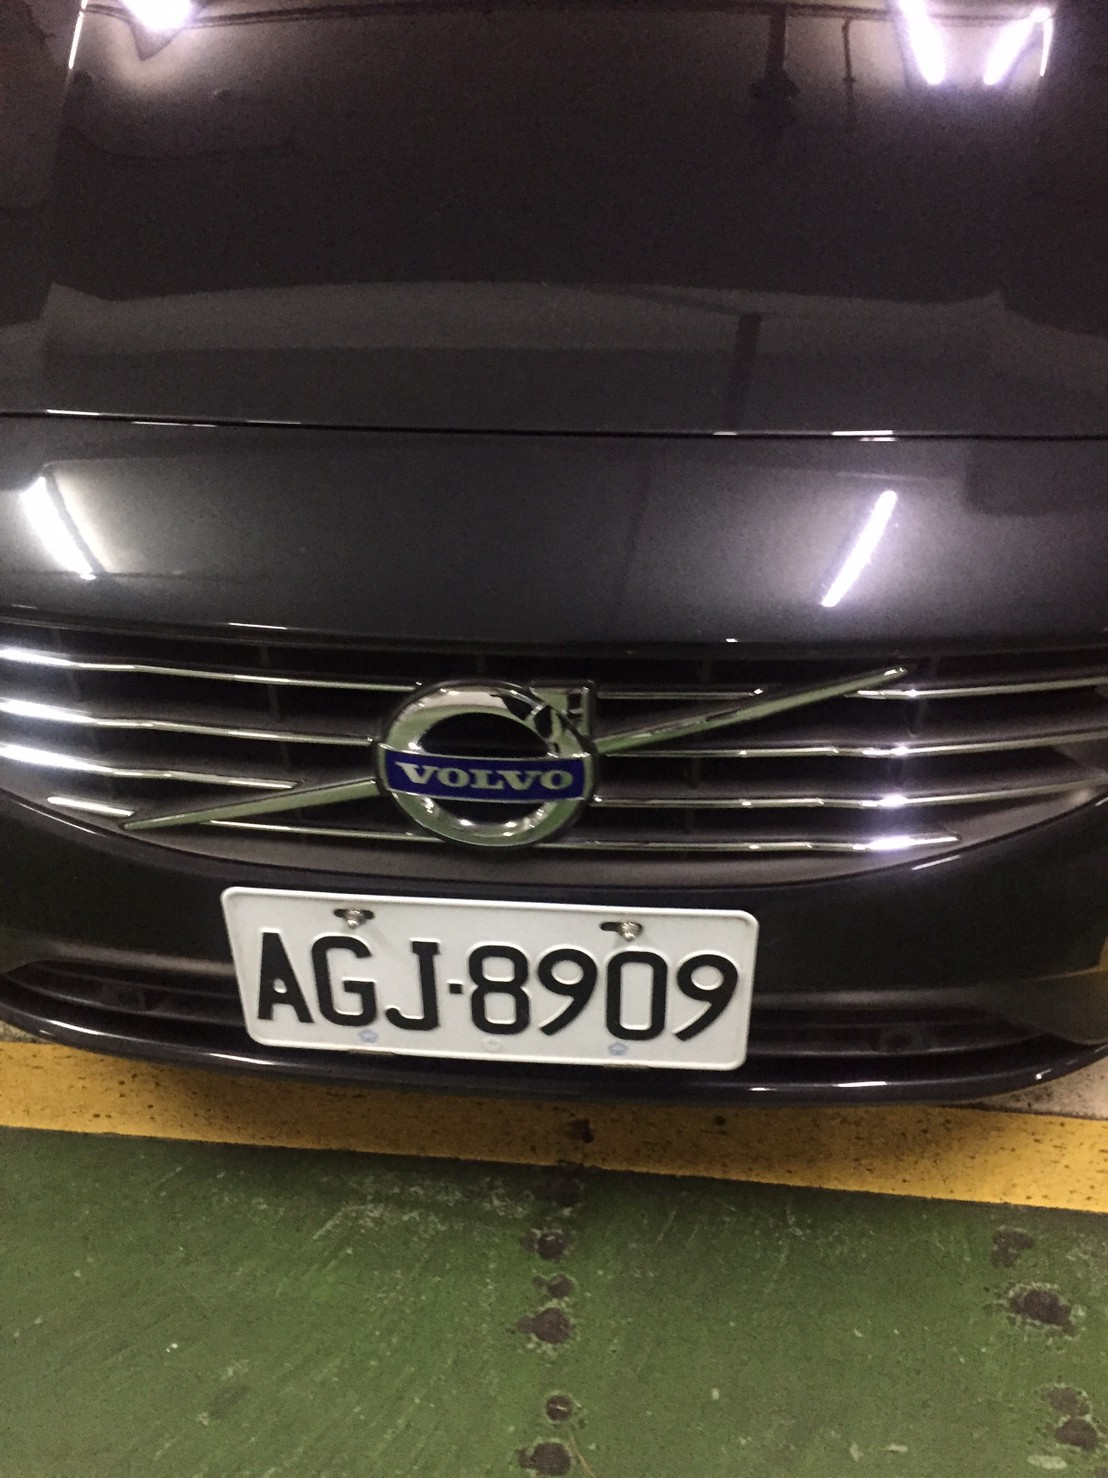LP: (215, 879, 779, 1076)
